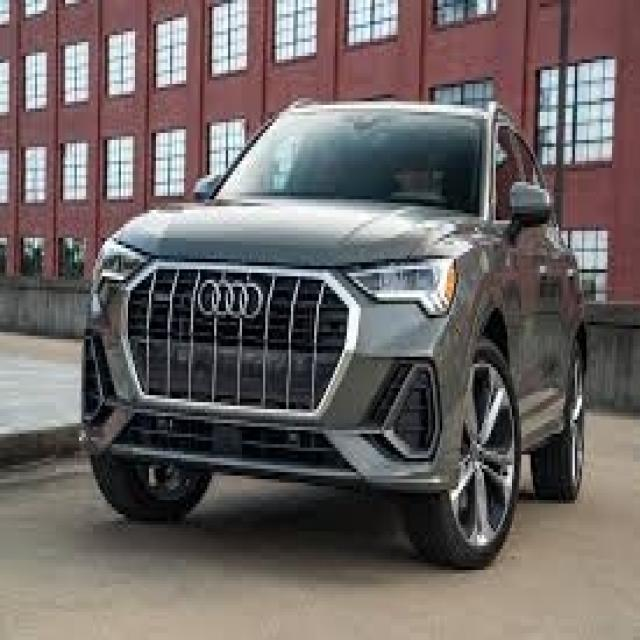black: (74, 90, 621, 550)
